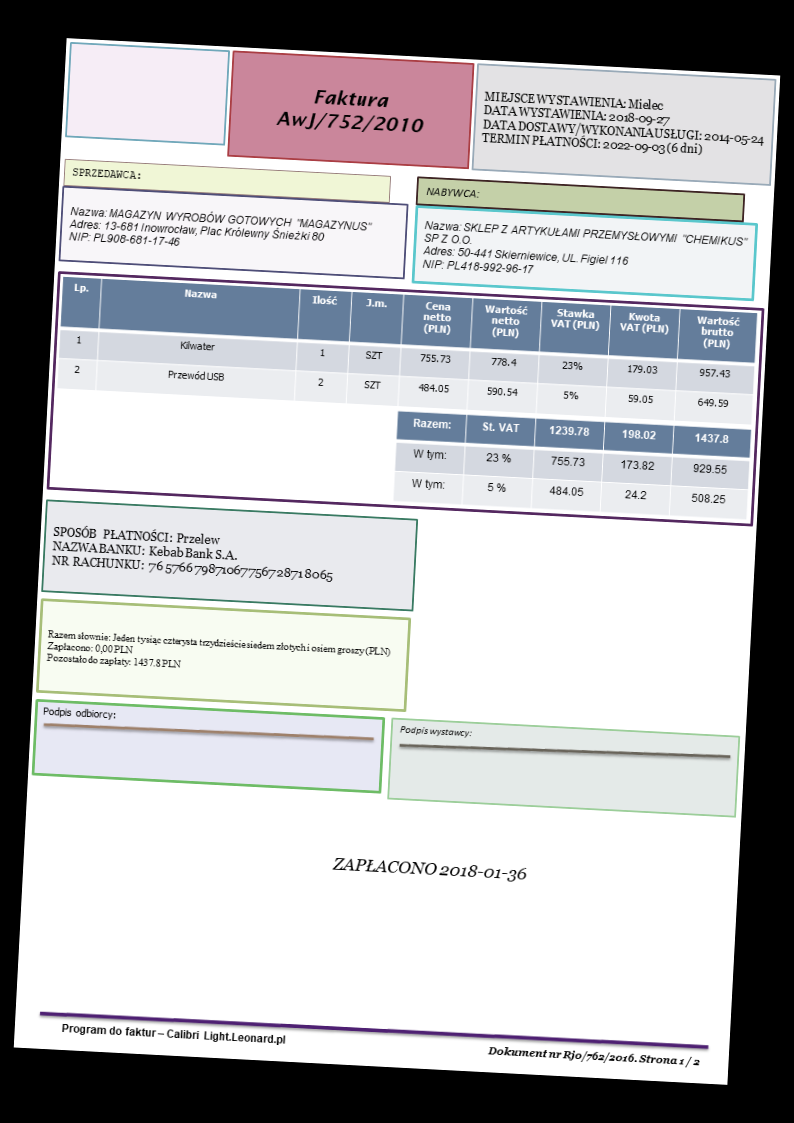Table: (56, 276, 758, 426), (391, 409, 753, 521)
TextBox: (419, 216, 750, 287), (480, 86, 768, 162), (45, 627, 394, 683), (50, 519, 336, 586), (67, 202, 375, 260), (273, 82, 430, 139), (58, 1018, 289, 1048), (328, 852, 533, 884), (486, 1041, 703, 1071), (41, 700, 118, 722), (69, 162, 143, 183), (396, 721, 471, 740), (422, 181, 481, 200)
